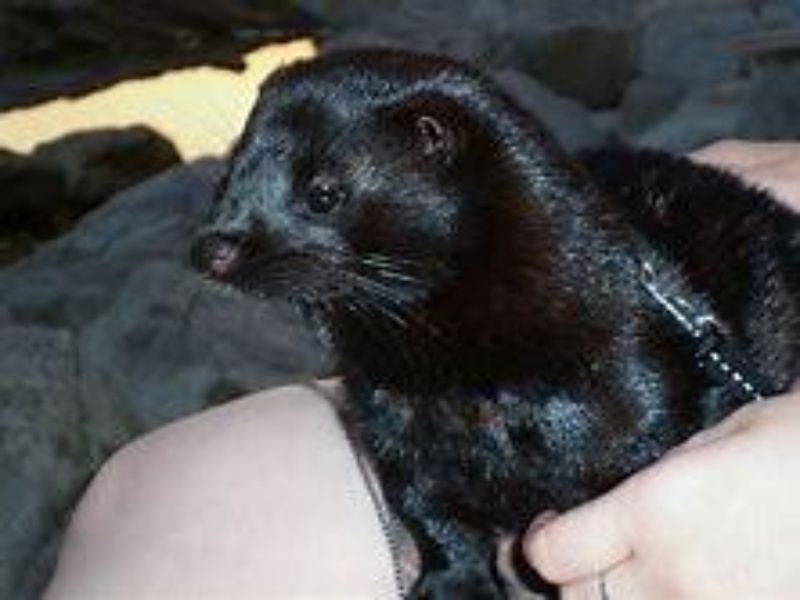minkish: (188, 54, 800, 599)
